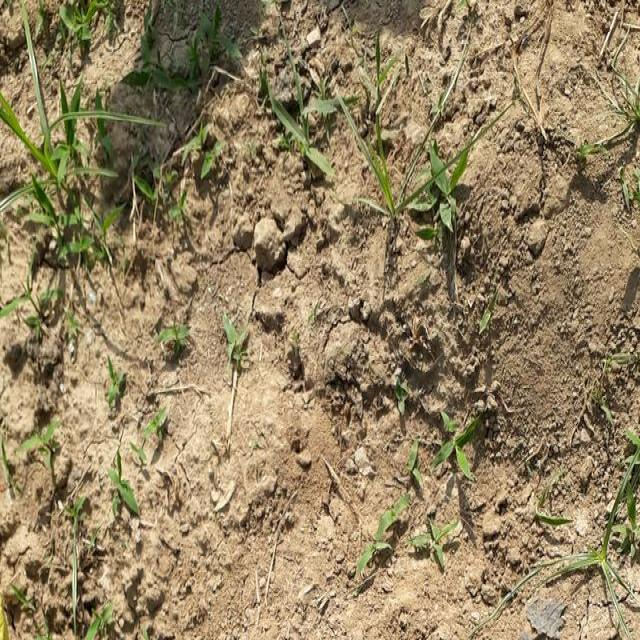weed: (0, 0, 113, 287), (263, 62, 350, 198), (401, 131, 492, 255), (222, 316, 255, 370), (160, 315, 198, 358)
